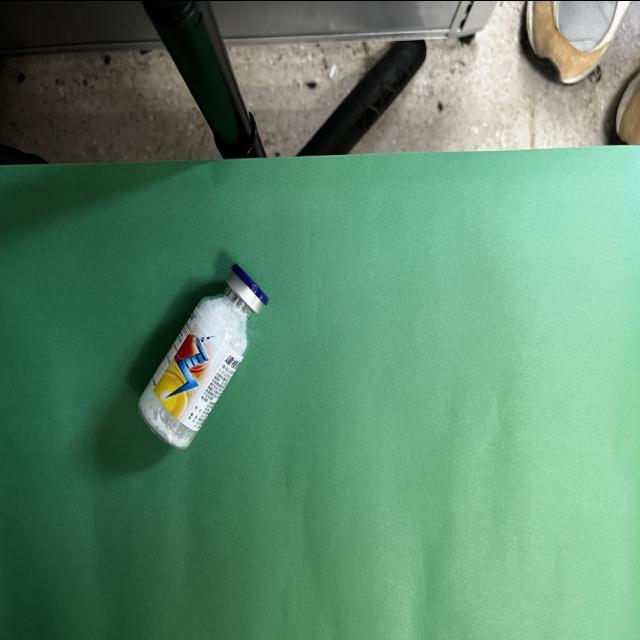Vials: (135, 263, 268, 449)
